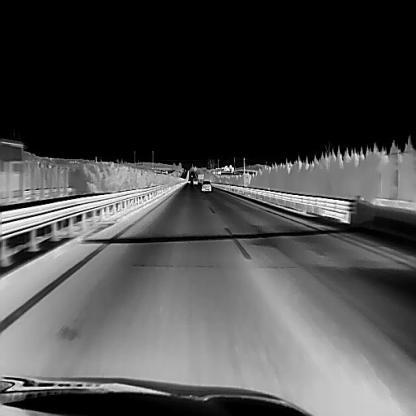car: (200, 180, 211, 190), (192, 176, 197, 184)
